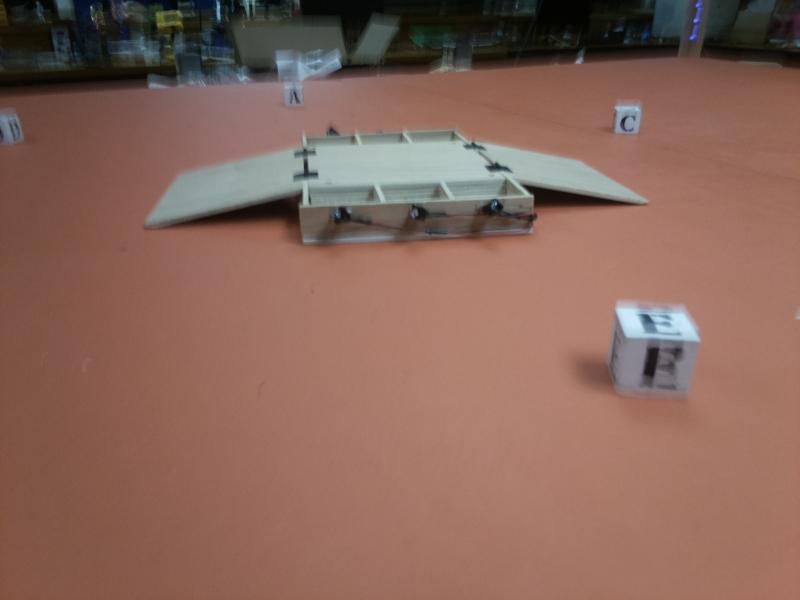blockA: (285, 83, 306, 113)
blockC: (612, 106, 642, 140)
blockD: (1, 115, 26, 144)
blockE: (610, 300, 698, 409)
corner: (678, 1, 710, 64)
side: (302, 178, 539, 248)
slope: (144, 132, 303, 238), (479, 141, 651, 211)
